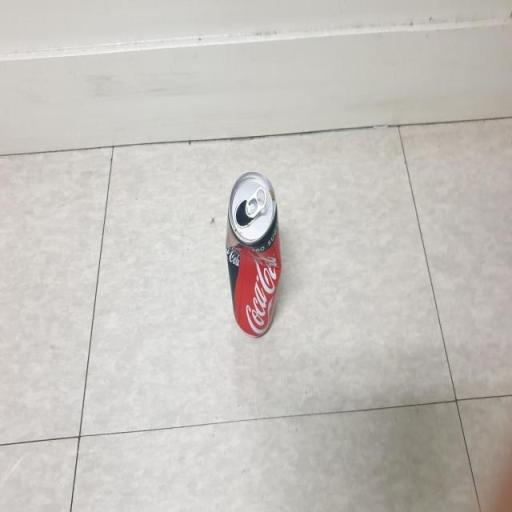metal: (217, 164, 291, 350)
